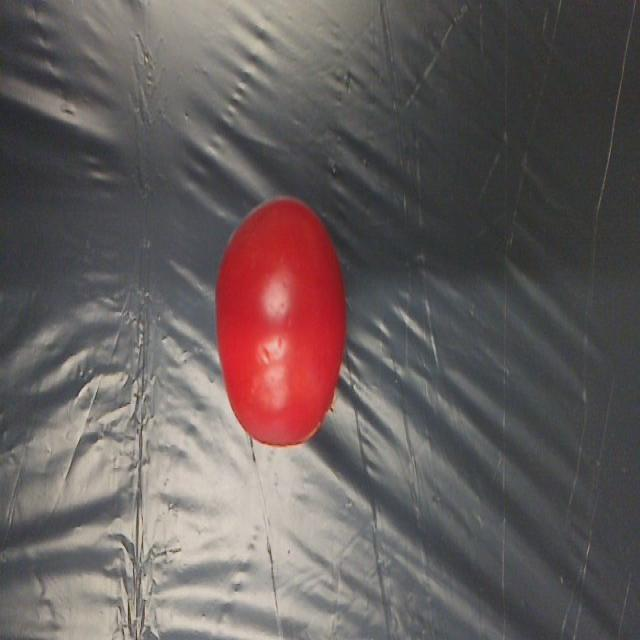kirmizi: (199, 198, 364, 459)
